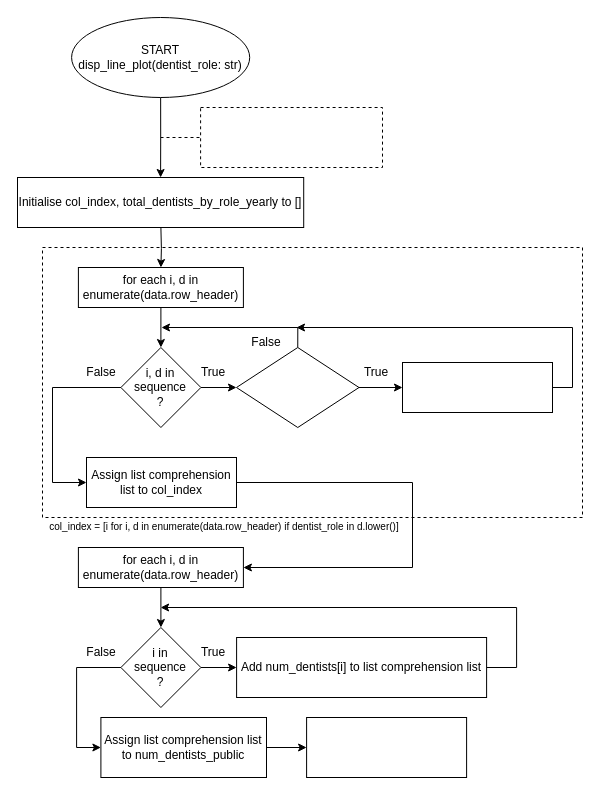
Image size: 600x795. Some labels were removed from this diagram. The shapes that lost their labels are listed below. From the top down, each one's centre as x and y in pixels, then its label:
(x=291, y=137): import data import numpy as np import matplotlib.pyplot as plt
(x=297, y=387): dentist_role in d.lower() ?
(x=477, y=387): Add i to list comprehension list
(x=386, y=747): num_dentists_public = sum(num_dentists_public)
